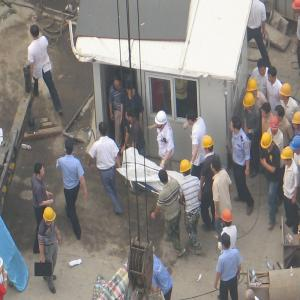blue: (292, 136, 300, 156)
none: (220, 233, 232, 251), (230, 118, 242, 135), (210, 157, 221, 175), (64, 139, 76, 155), (258, 59, 268, 78), (268, 67, 278, 85), (275, 105, 286, 121), (187, 109, 198, 125), (30, 25, 41, 41), (35, 163, 46, 178), (127, 82, 137, 98), (99, 121, 109, 137), (262, 102, 271, 119), (160, 168, 169, 184), (114, 75, 123, 91), (127, 107, 135, 121)
red: (269, 117, 281, 133), (222, 211, 233, 228)
white: (155, 111, 168, 130)
yellow: (282, 148, 295, 167), (280, 84, 293, 102), (204, 136, 216, 155), (44, 209, 56, 227), (262, 133, 274, 151), (245, 94, 256, 112), (247, 79, 258, 95), (181, 161, 191, 177), (293, 112, 300, 134)
